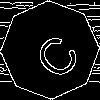C: (25, 25, 83, 83)
